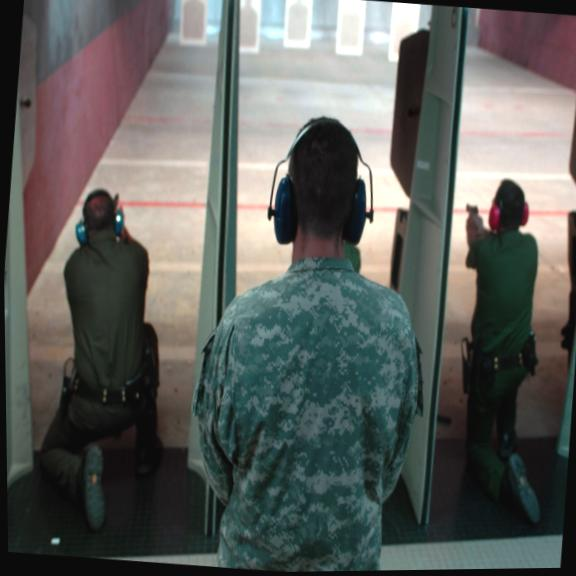no_safety_vest: (202, 252, 434, 537), (56, 218, 162, 359), (464, 222, 548, 350)
